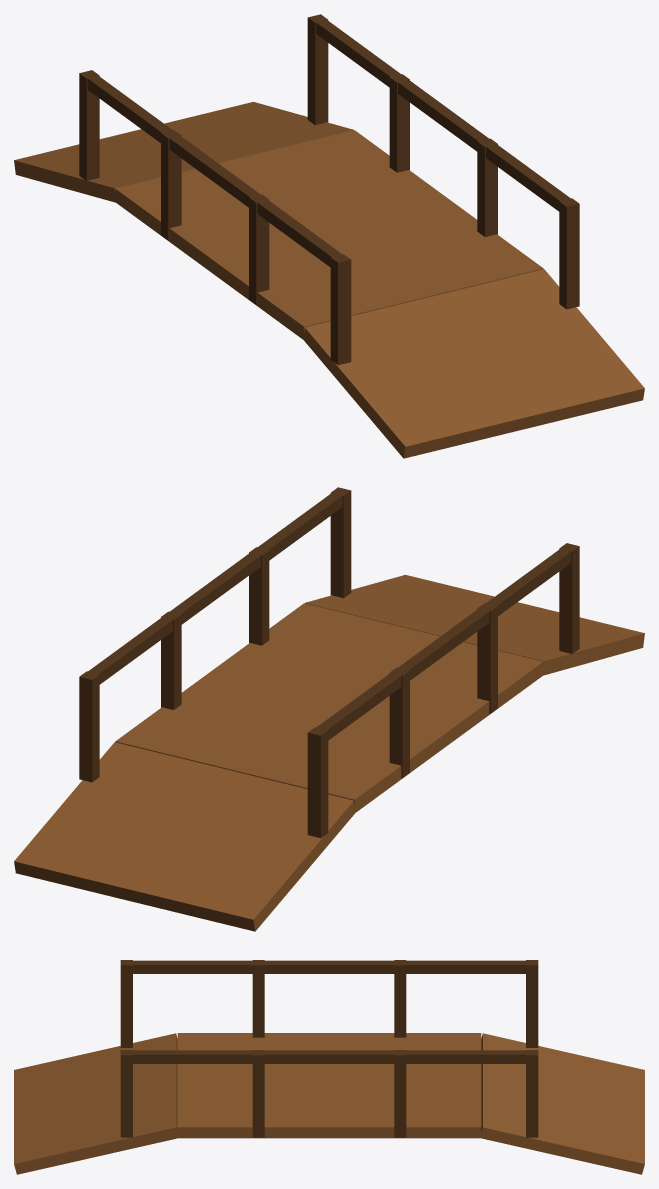
The model's file is bridge.glb.
3 renders of one model, top to bottom at view 1: azimuth 30°, elevation 25°; view 2: azimuth 150°, elevation 25°; view 3: azimuth 270°, elevation 25°, orthographic. The views are drawn at different scales.
Parts seen in each view (by area): view 1: BridgeDeck, BridgeRails; view 2: BridgeDeck, BridgeRails; view 3: BridgeDeck, BridgeRails.
Part boxes in pixels (x1,y1,x2,y2): BridgeDeck: (14, 102, 644, 458); BridgeRails: (79, 14, 579, 365); BridgeDeck: (14, 575, 644, 931); BridgeRails: (79, 487, 579, 838); BridgeDeck: (14, 1033, 644, 1174); BridgeRails: (120, 960, 538, 1137).
Size of what is drawn, in the model's own units: 2.22 by 1.31 by 6.23.
